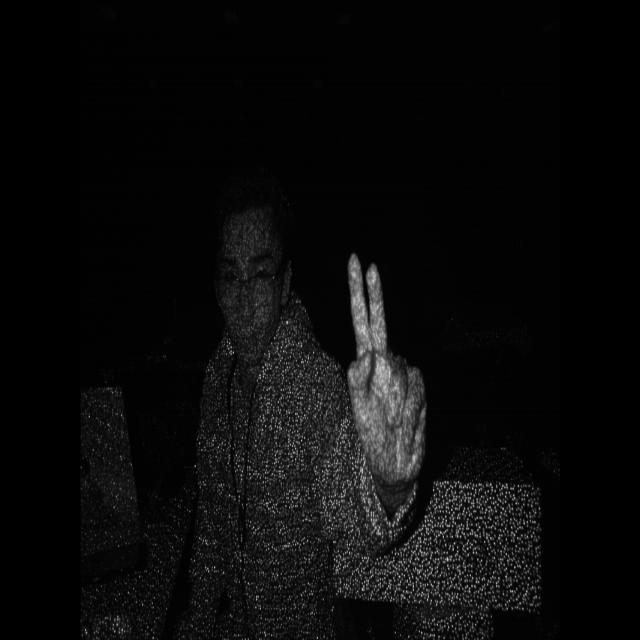U: (342, 231, 436, 514)
